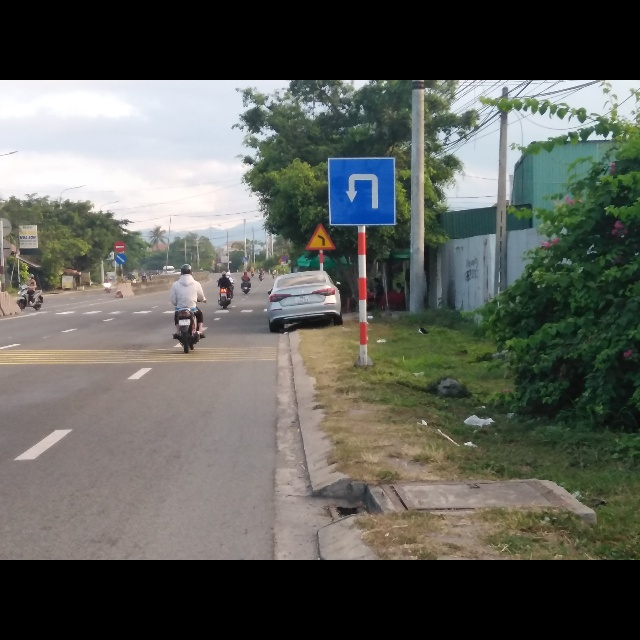Khu vực quay đầu xe: (328, 155, 396, 228)
